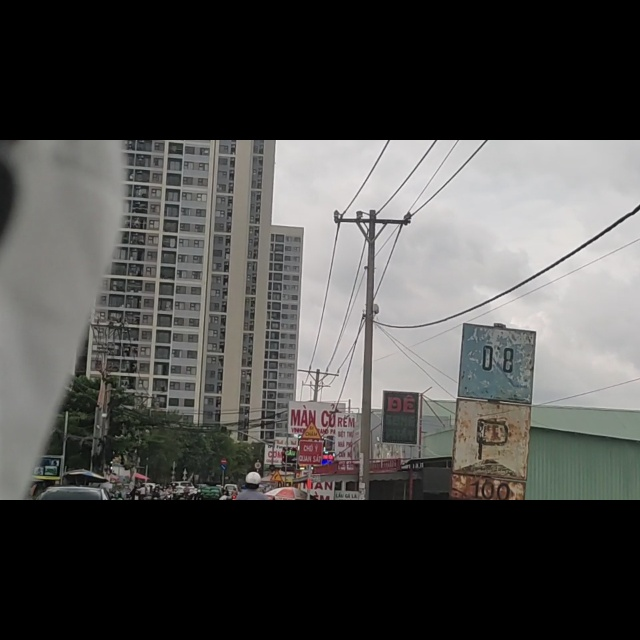Chỉ được rẽ phải: (219, 464, 227, 471)
Chỗ ngoặt nguy hiểm bên phải: (270, 470, 283, 482)
Cấm vào: (220, 458, 227, 463)
Đi chậm: (300, 422, 322, 441)
